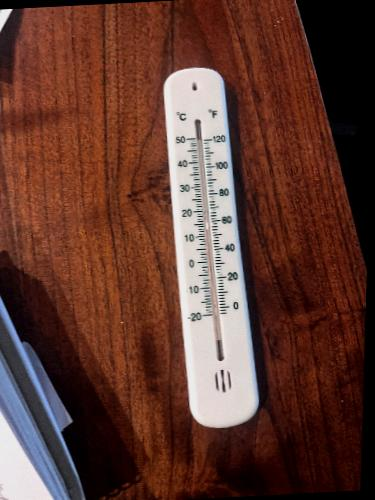thermo: (161, 66, 261, 425)
